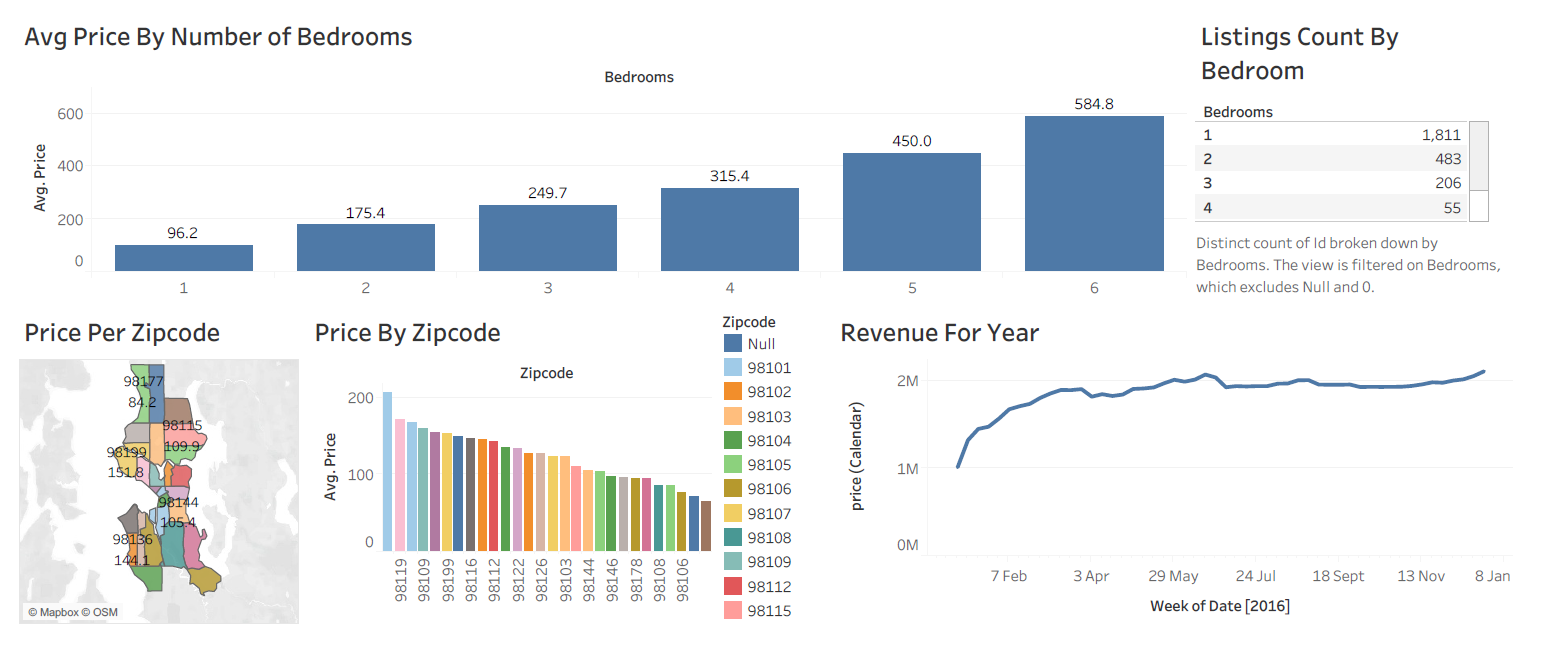

This screenshot's page, from the dashboard's own definition file:
{"tool":"tableau","page":{"name":"Dashboard 1","canvas":[1000,1000],"units":"permille","ordinal":0},"visuals":[{"type":"worksheet","title":"Sheet 4","mark":"Automatic","rows":["price"],"cols":["bedrooms"],"box":[5,9.8,774.9,465.8]},{"type":"worksheet","title":"Sheet 5","mark":"Automatic","rows":["bedrooms"],"box":[779.9,9.8,215.1,465.8]},{"type":"worksheet","title":"Sheet 2","mark":"Multipolygon","box":[5,475.6,190.8,514.7]},{"type":"worksheet","title":"Sheet 1","mark":"Automatic","rows":["price"],"cols":["zipcode"],"box":[195.8,475.6,271.8,514.7]},{"type":"legend","title":"Sheet 1","param":"[federated.0wm1ado081255j11c3aw9040we4v].[none:zipcode:ok]","box":[467.6,475.6,74.8,514.7]},{"type":"worksheet","title":"Sheet 3","mark":"Automatic","rows":["price (Calendar)"],"cols":["date"],"box":[542.4,475.6,452.6,514.7]}]}

Visuals, with their boxes on the dashboard's canvas, which has no fixed pixel size, in thousandths of its width and height (x1, y1, x2, y2). These are canvas units, not pixel positions in the 1543x648 screenshot, which may show the page scaled, cropped or inside an application window:
"Sheet 4" worksheet: [left=5, top=10, right=780, bottom=476]
"Sheet 5" worksheet: [left=780, top=10, right=995, bottom=476]
"Sheet 2" worksheet (Multipolygon marks): [left=5, top=476, right=196, bottom=990]
"Sheet 1" worksheet: [left=196, top=476, right=468, bottom=990]
"Sheet 1" legend: [left=468, top=476, right=542, bottom=990]
"Sheet 3" worksheet: [left=542, top=476, right=995, bottom=990]
